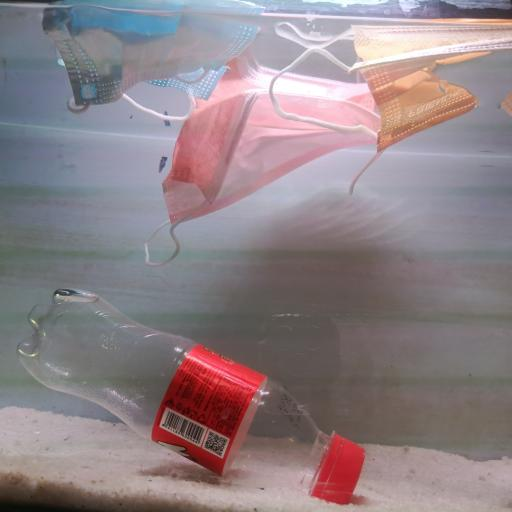bottle_cap: (316, 428, 372, 504)
mask: (146, 61, 390, 257), (266, 16, 512, 151), (45, 6, 270, 122)
plastic_bottle: (17, 281, 371, 512)
